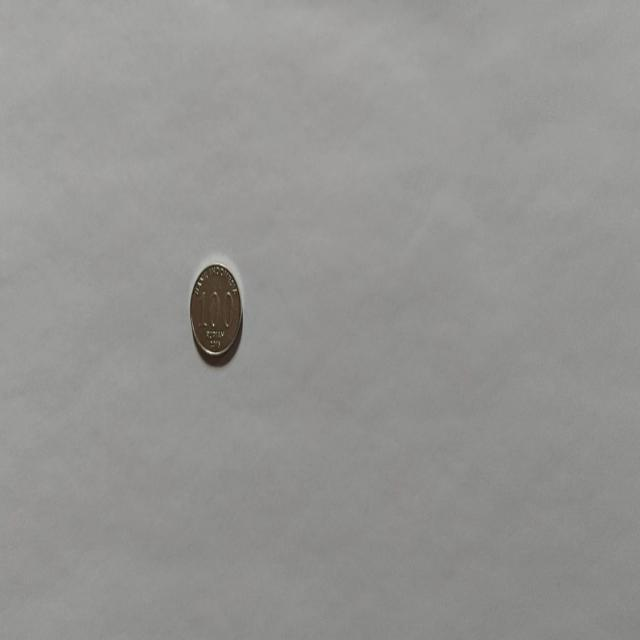seratus rupiah: (188, 260, 242, 362)
